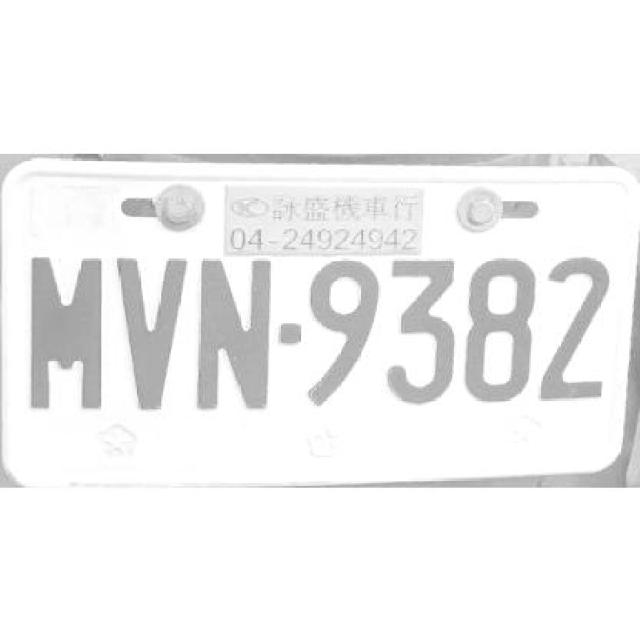-: (275, 319, 303, 346)
2: (536, 246, 608, 396)
3: (383, 253, 456, 402)
8: (461, 251, 535, 399)
9: (302, 252, 381, 406)
M: (25, 247, 101, 405)
N: (192, 250, 270, 406)
V: (112, 249, 188, 407)
